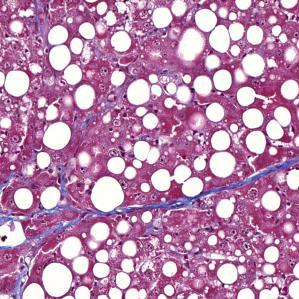fibrosis: (44, 203, 98, 238)
